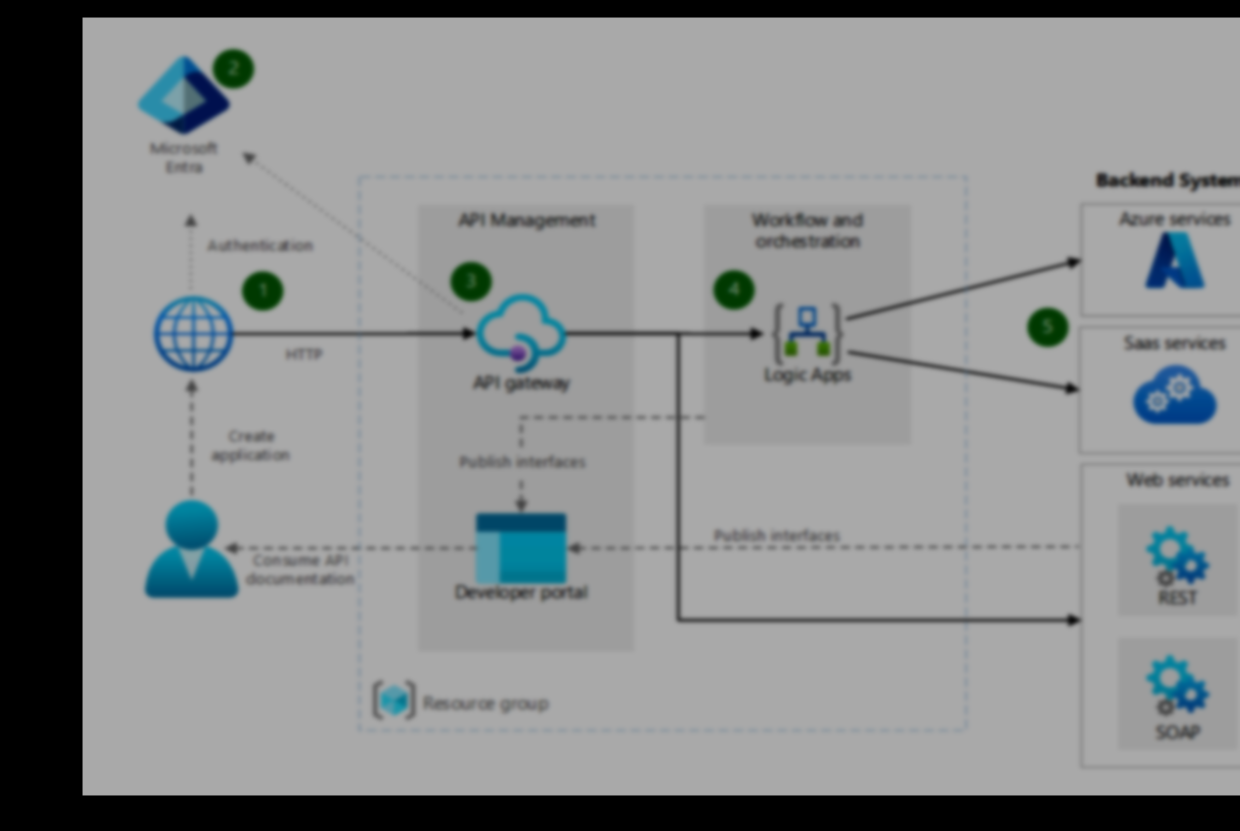api: (1141, 653, 1217, 744), (1139, 523, 1215, 609)
azure_services: (1113, 207, 1237, 294)
developer_portal: (469, 509, 567, 582)
logic_apps: (769, 295, 842, 365)
microsoft_entra: (132, 52, 234, 135), (473, 293, 567, 374)
resource_group: (150, 294, 235, 372), (368, 674, 418, 720)
sass_services: (1123, 358, 1225, 428)
user: (142, 500, 239, 599)
